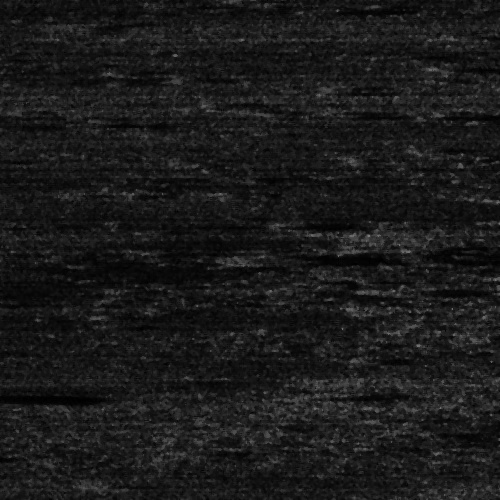object: (194, 251, 319, 262), (361, 286, 434, 295), (275, 391, 358, 398), (453, 269, 500, 280)
shadow: (257, 251, 366, 262), (0, 391, 78, 402), (397, 286, 471, 295), (317, 391, 387, 398), (0, 451, 29, 460)
